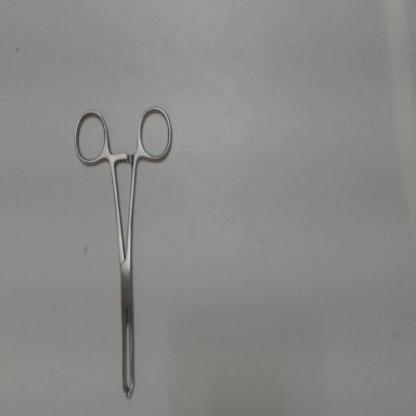Allis Tissue Forceps: (68, 103, 184, 412)
